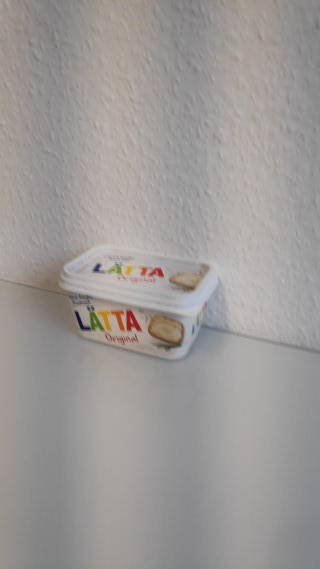laetta: (56, 242, 221, 362)
